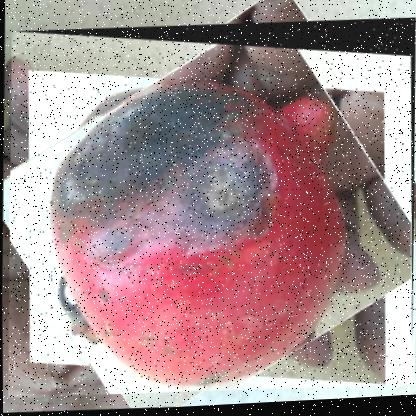pomegranate_rotten: (4, 12, 415, 404)
